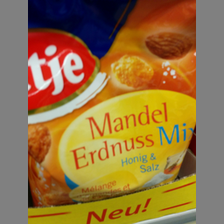nuts: (28, 1, 196, 206)
